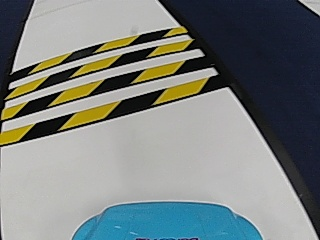bump: (19, 33, 187, 128)
